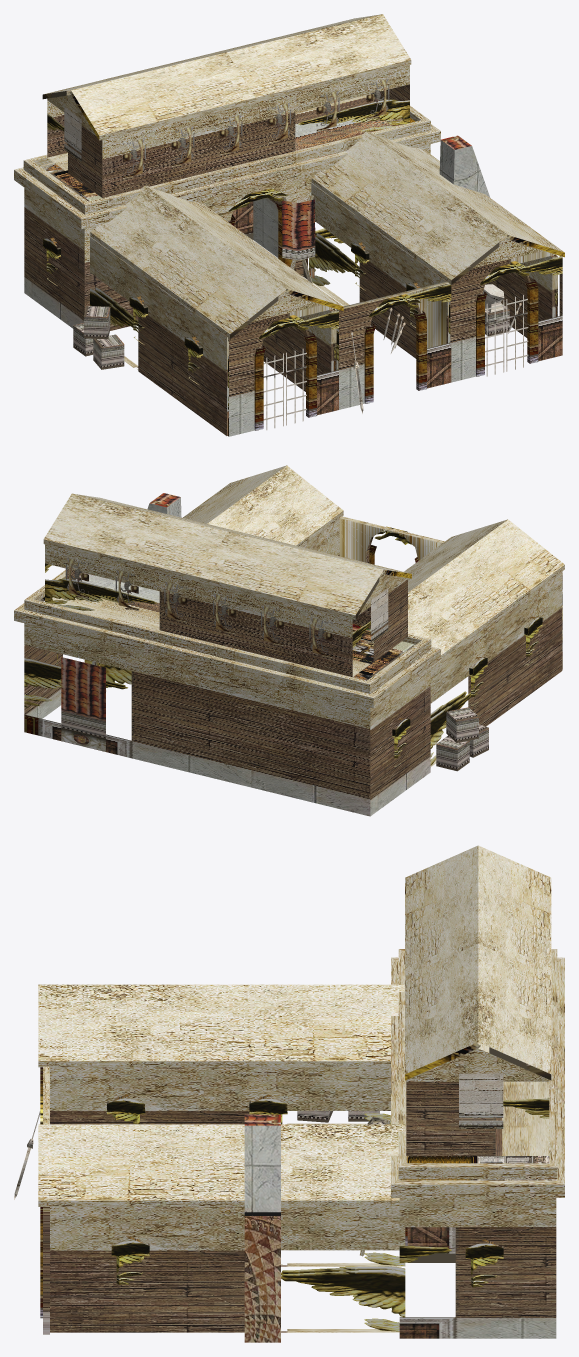
The model's file is rome_mc2.dae.
3 views of the same model, one above another, from view 1: azimuth 30°, elevation 25°; view 2: azimuth 150°, elevation 25°; view 3: azimuth 270°, elevation 25° (orthographic). The views are drawn at different scales.
Parts seen in each view (by area): view 1: Pilum01-Pivot; view 2: Pilum01-Pivot; view 3: Pilum01-Pivot.
Boxes of the visible parts, x1=… form: Pilum01-Pivot: x1=14, y1=14, x2=564, y2=436; Pilum01-Pivot: x1=14, y1=465, x2=564, y2=816; Pilum01-Pivot: x1=14, y1=845, x2=564, y2=1342.
Bounding box in the file's own units: 20.14 × 19.69 × 11.45.
